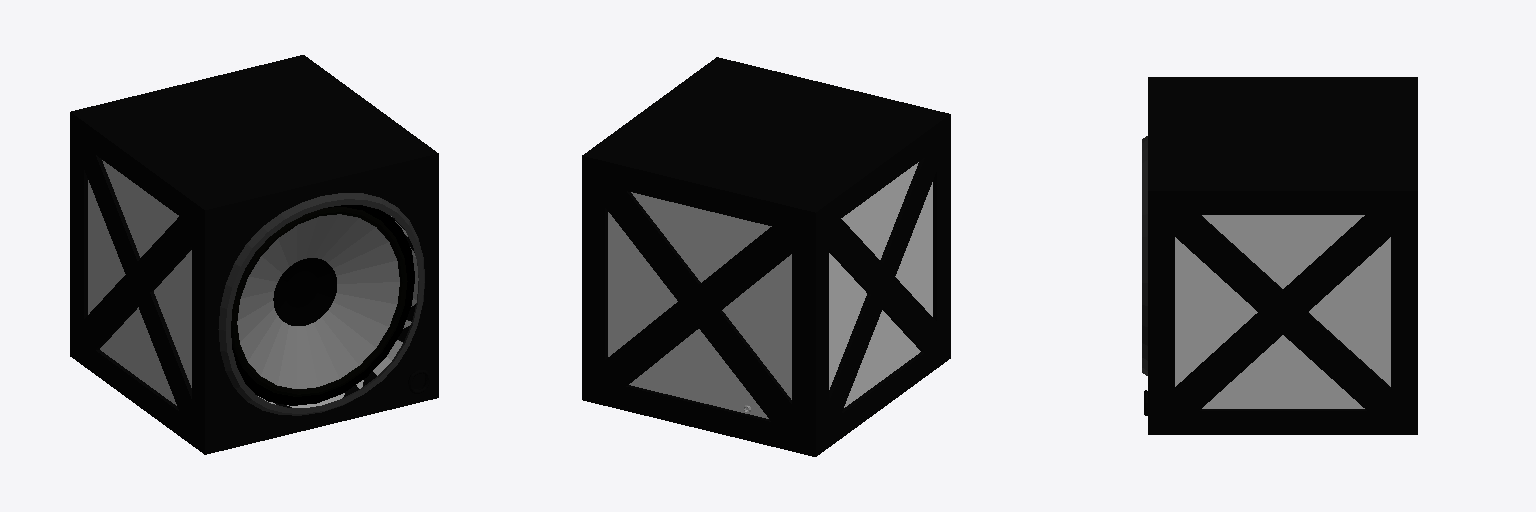
The model's file is speaker.obj.
3 views of the same model, side by side, from view 1: azimuth 30°, elevation 25°; view 2: azimuth 150°, elevation 25°; view 3: azimuth 270°, elevation 25° (orthographic).
Visible parts, largest first — view 1: Default; view 2: Default; view 3: Default.
Boxes of the visible parts, x1=… form: Default: x1=70, y1=55, x2=438, y2=454; Default: x1=582, y1=57, x2=950, y2=456; Default: x1=1142, y1=77, x2=1417, y2=434.
Size of the model in its own units: 0.6 by 0.6 by 0.614.